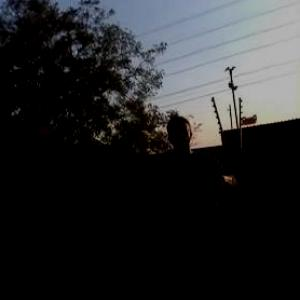follow: (154, 109, 252, 299)
